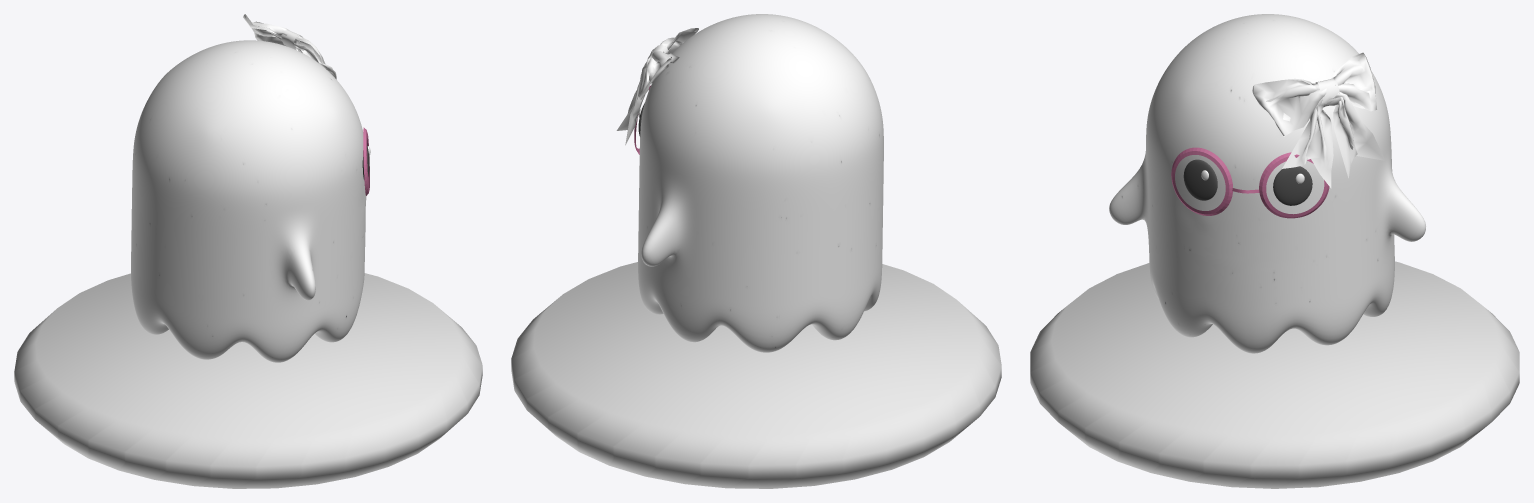
File: ghostewithstand.glb
The picture shows the model from 3 angles, left to right: view 1: azimuth 30°, elevation 25°; view 2: azimuth 150°, elevation 25°; view 3: azimuth 270°, elevation 25°; orthographic projection. The views are drawn at different scales.
Parts seen in each view (by area): view 1: Body, stand; view 2: stand, Body; view 3: Body, stand.
Boxes of the visible parts, x1,y1,x2,y2 form: Body: (131, 14, 370, 362); stand: (14, 273, 482, 488); stand: (511, 262, 1001, 488); Body: (616, 14, 883, 352); Body: (1109, 14, 1425, 353); stand: (1030, 261, 1519, 488).
Bounding box in the file's own units: 3.79 × 3.15 × 3.79.
6 materials, 1 textured.
